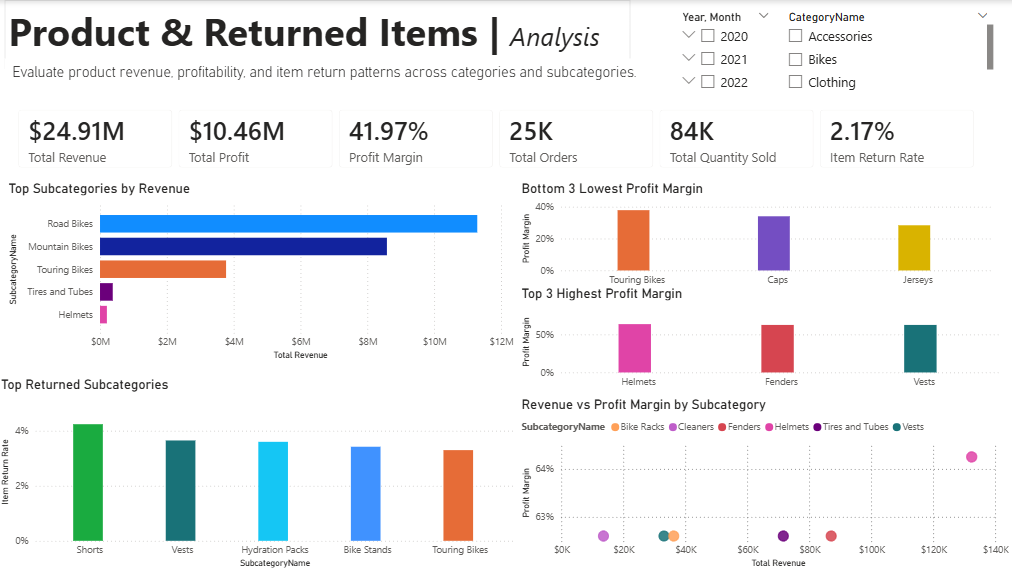

This screenshot's page, from the dashboard's own definition file:
{"tool":"powerbi","page":{"name":"Product & Returned Items Analysis","canvas":[1280,720],"ordinal":1},"visuals":[{"type":"slicer","fields":{"Values":["calendar_clean.Date.Variation.Date Hierarchy.Year","calendar_clean.Date.Variation.Date Hierarchy.Month"]},"box":[850.4,7.6,134.2,132.3],"z":0},{"type":"cardVisual","fields":{"Data":["sales_clean.Total revenue","sales_clean.Total profit","sales_clean.Profit margins","sales_clean.Total Orders","sales_clean.Total Quantity Sold","sales_clean.Return Rate"]},"box":[9.4,120.9,1241.6,107.7],"z":1000},{"type":"textbox","box":[9.4,0,788,86.9],"z":2000},{"type":"textbox","box":[9.4,73.7,841,62.4],"z":3000},{"type":"barChart","title":"Top Subcategories by Revenue","fields":{"Category":["product_subcategories_clean.SubcategoryName"],"Y":["sales_clean.Total Revenue"],"Series":["product_subcategories_clean.SubcategoryName"]},"box":[9.4,226.8,646.3,230.6],"z":4000},{"type":"columnChart","title":"Bottom 3 Lowest Profit Margin","fields":{"Category":["product_subcategories_clean.SubcategoryName"],"Y":["sales_clean.Profit Margin"],"Series":["product_subcategories_clean.SubcategoryName"]},"box":[655.8,226.8,604.7,143.6],"z":5000},{"type":"columnChart","title":"Top 3 Highest Profit Margin","fields":{"Category":["product_subcategories_clean.SubcategoryName"],"Y":["sales_clean.Profit Margin"],"Series":["product_subcategories_clean.SubcategoryName"]},"box":[655.8,359.1,614.2,139.8],"z":6000},{"type":"columnChart","title":"Top Returned Subcategories","fields":{"Category":["product_subcategories_clean.SubcategoryName"],"Y":["sales_clean.Item Return Rate"],"Series":["product_subcategories_clean.SubcategoryName"]},"box":[0,474.3,655.8,245.7],"z":7000},{"type":"scatterChart","title":"Revenue vs Profit Margin by Subcategory","fields":{"Series":["product_subcategories_clean.SubcategoryName"],"X":["sales_clean.Total Revenue"],"Y":["sales_clean.Profit Margin"],"Size":["sales_clean.Profit Margin"]},"box":[655.8,498.9,623.6,221.1],"z":8000},{"type":"slicer","fields":{"Values":["product_categories_clean.CategoryName"]},"box":[984.6,7.6,275.9,109.6],"z":9000}]}

Visuals, with their boxes in screenshot pixels (x1, y1, x2, y2), scaled from the page's 1280x720 canvas onto the 1012x571 screenshot:
slicer - calendar_clean.Date.Variation.Date Hierarchy.Year x calendar_clean.Date.Variation.Date Hierarchy.Month: bbox=[672, 6, 778, 111]
cardVisual - sales_clean.Total revenue x sales_clean.Total profit: bbox=[7, 96, 989, 181]
textbox: bbox=[7, 0, 630, 69]
textbox: bbox=[7, 58, 672, 108]
"Top Subcategories by Revenue" barChart: bbox=[7, 180, 518, 363]
"Bottom 3 Lowest Profit Margin" columnChart: bbox=[518, 180, 997, 294]
"Top 3 Highest Profit Margin" columnChart: bbox=[518, 285, 1004, 396]
"Top Returned Subcategories" columnChart: bbox=[0, 376, 518, 570]
"Revenue vs Profit Margin by Subcategory" scatterChart: bbox=[518, 396, 1011, 570]
slicer - product_categories_clean.CategoryName: bbox=[778, 6, 997, 93]
